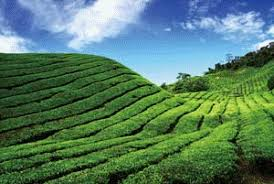field: (5, 59, 267, 180)
sky: (1, 2, 271, 58)
